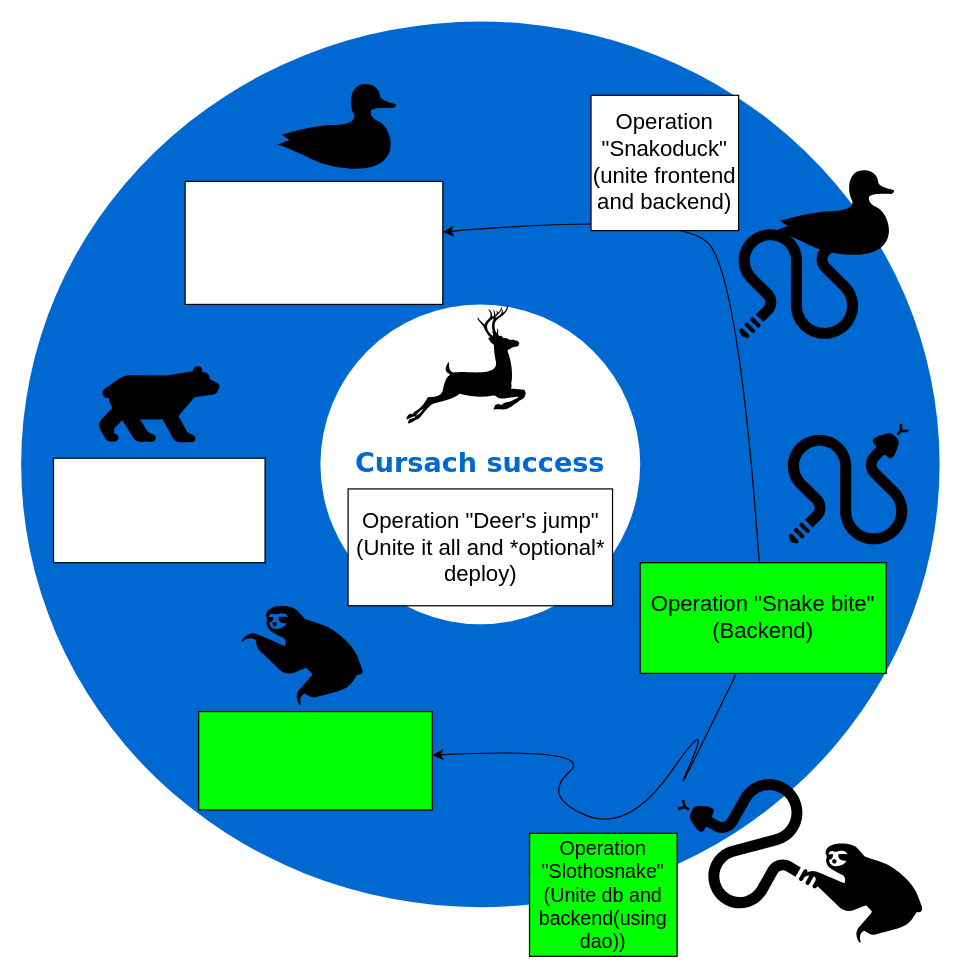
This 961x978 diagram has some shape labels left out. Each missing label, with the centre of its shape:
Operation "Beer's walk" (registration and authentification): [158,510]
Operation "Duck's wing" (Frontend): [313,242]
Operation "Sloth hand" (Database(MySQL)): [314,760]
